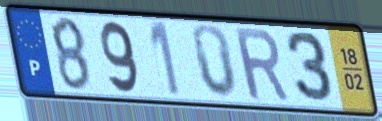0: (191, 22, 239, 102)
1: (146, 18, 182, 100)
3: (284, 29, 336, 106)
8: (51, 15, 93, 92)
9: (99, 18, 141, 95)
R: (231, 26, 293, 104)
